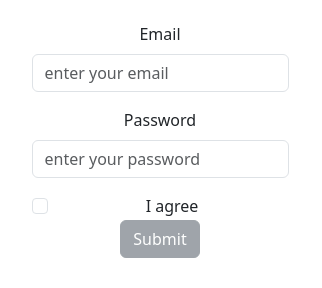
Test: template spec › email validation works successfully
In the field with test id "email": (161, 73) [32, 54, 289, 92], type "john.doeexample.com"
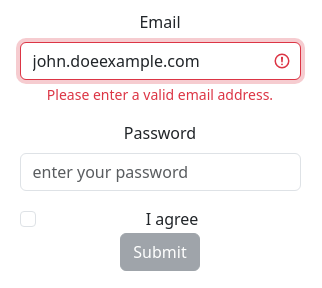
Expected: the button with test id "button" is disabled, [120, 233, 199, 271]
Expected: the text with test id "emailValidation" reads "Please enter a valid email address.", [47, 85, 273, 104]
